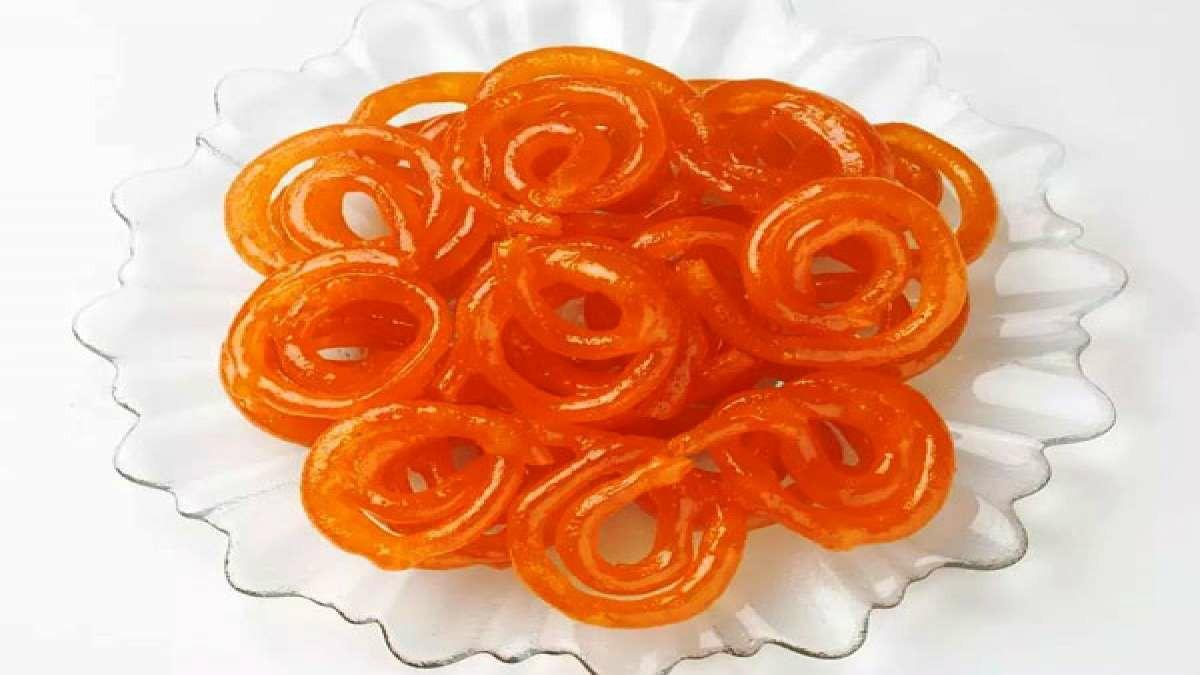Jalebi: (216, 35, 1001, 634)
